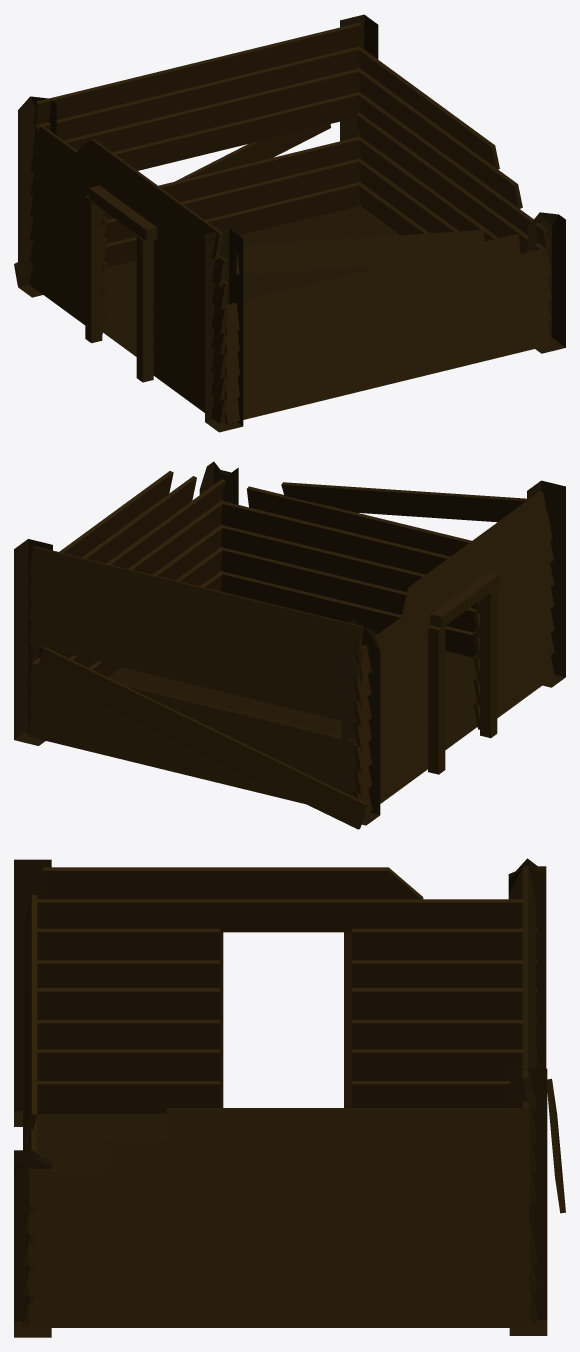
Rendered from AbandonedBuilding2.fbx.
3 views of the same model, one above another, from view 1: azimuth 30°, elevation 25°; view 2: azimuth 150°, elevation 25°; view 3: azimuth 270°, elevation 25° (orthographic). The views are drawn at different scales.
Visible parts, largest first — view 1: Floor.001; view 2: Floor.001; view 3: Floor.001.
Part boxes in pixels (bbox=[...]): Floor.001: bbox=[14, 14, 565, 432]; Floor.001: bbox=[14, 461, 565, 829]; Floor.001: bbox=[14, 858, 565, 1337].
Bounding box in the file's own units: 1184 × 613 × 1205.
